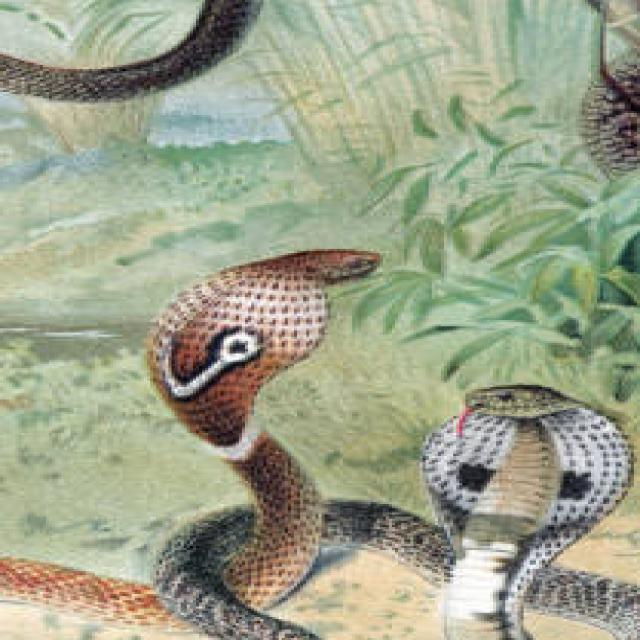snake: (0, 244, 640, 640), (0, 0, 640, 261)
